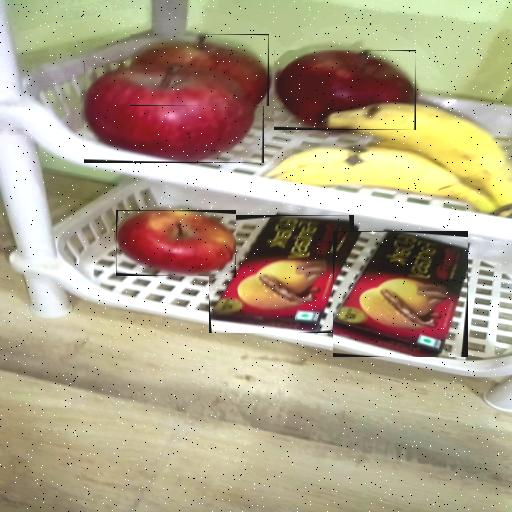Apple: (84, 63, 264, 163), (274, 50, 416, 130), (130, 34, 269, 106), (116, 210, 236, 276)
Choco Fills: (209, 215, 354, 333), (333, 231, 468, 357)
